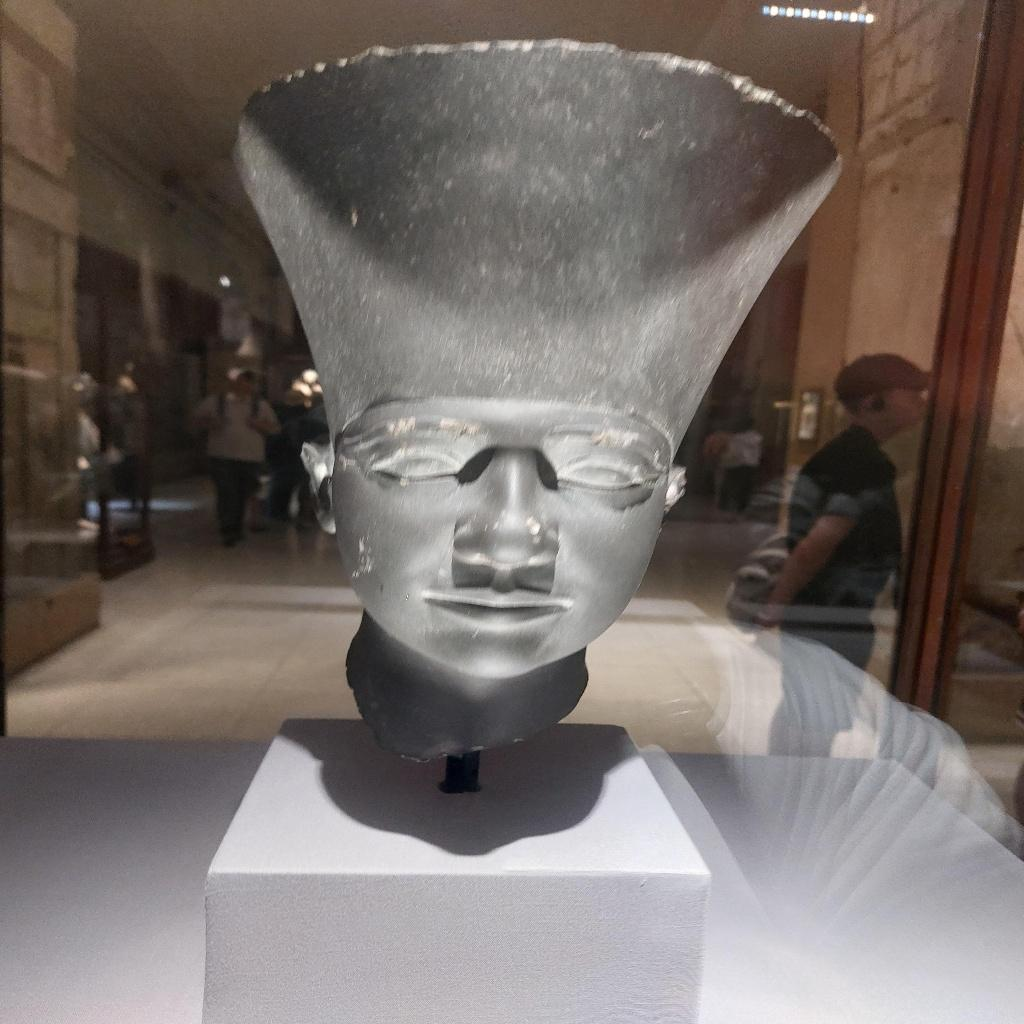Head of Userkaf: (226, 36, 844, 687)
